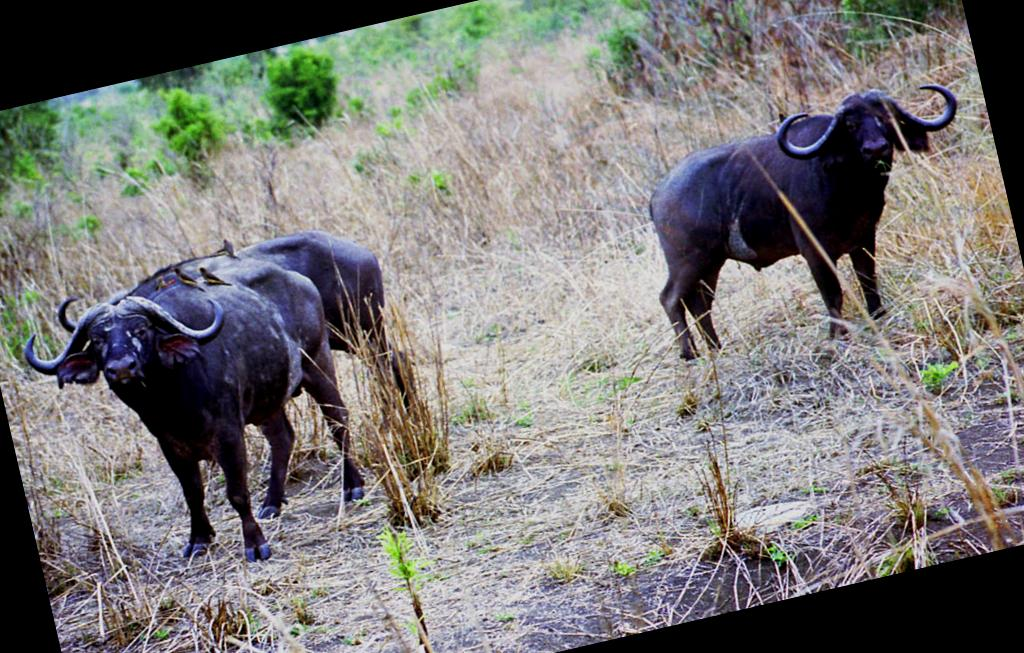Buffalo: (0, 0, 1020, 596)
